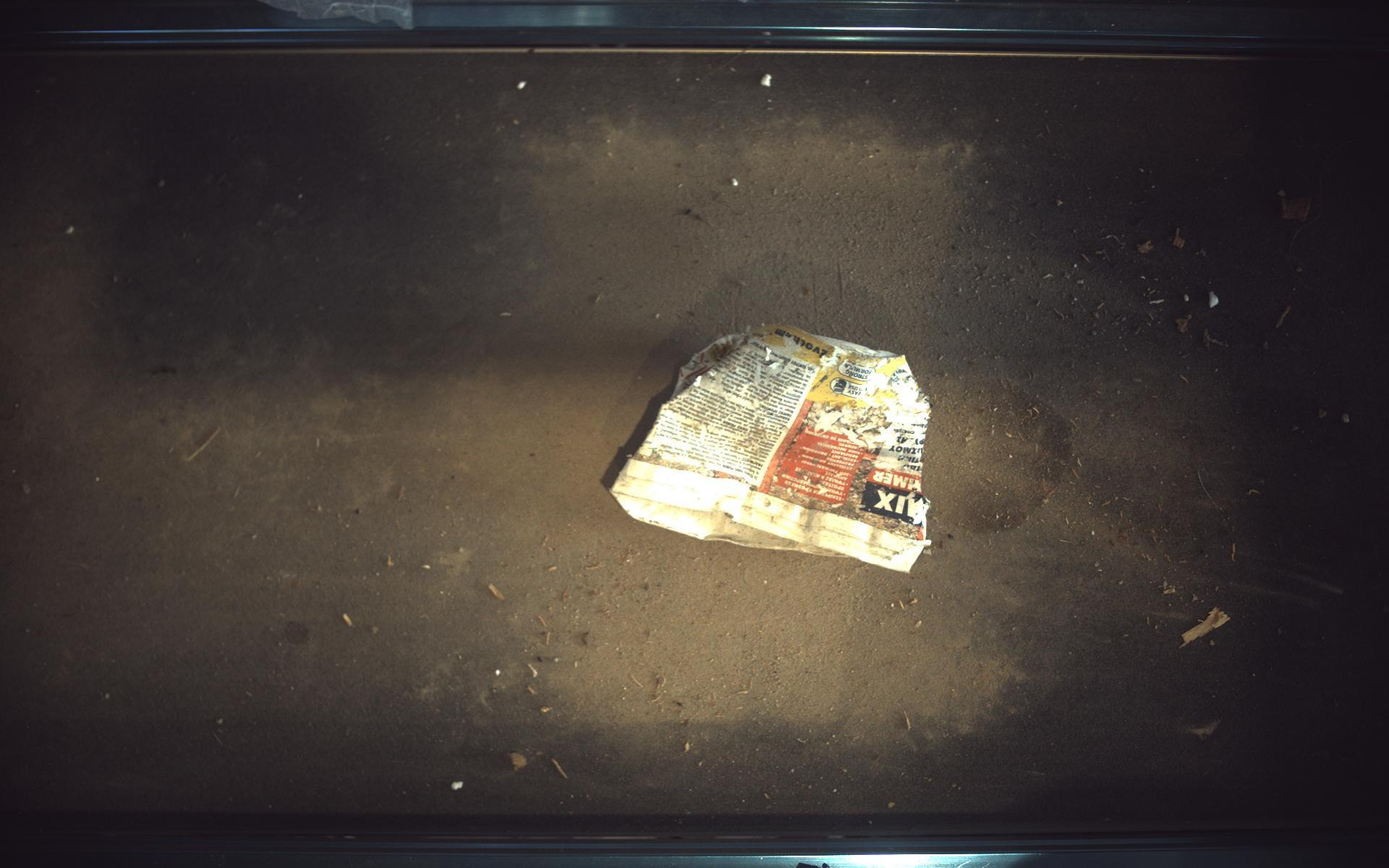plastic: (613, 326, 933, 572)
